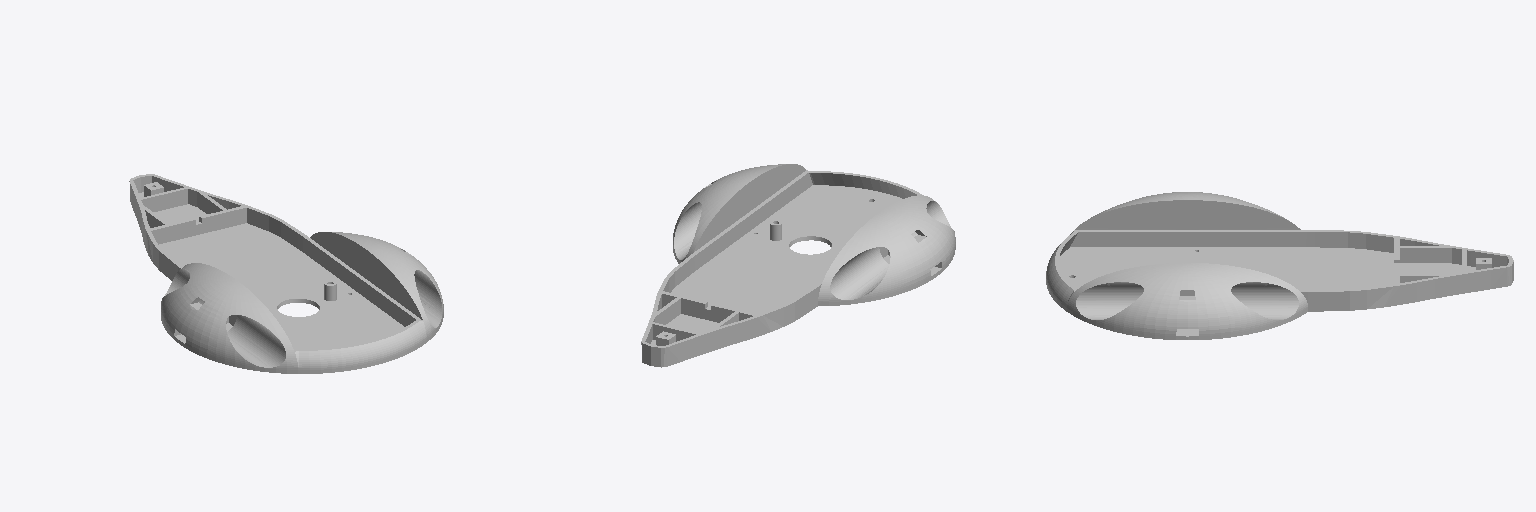
Rendered from MantaCase_Tadpole_20221208_Bottom.obj.
3 views of the same model, side by side, from view 1: azimuth 30°, elevation 25°; view 2: azimuth 150°, elevation 25°; view 3: azimuth 270°, elevation 25° (orthographic).
Visible parts, largest first — view 1: polySurface2150; view 2: polySurface2150; view 3: polySurface2150.
Boxes of the visible parts, x1,y1,x2,y2 form: polySurface2150: [129, 174, 443, 373]; polySurface2150: [641, 164, 955, 367]; polySurface2150: [1046, 192, 1513, 339].
Bounding box in the file's own units: 131 × 25.08 × 217.